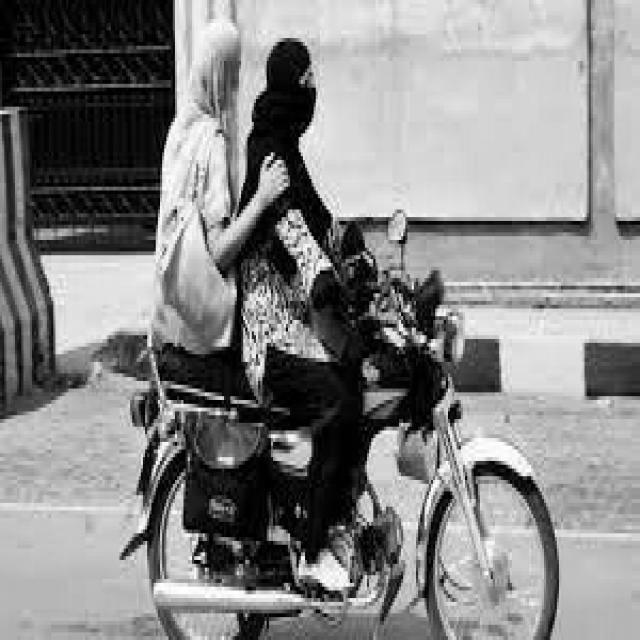Motorbike: (121, 23, 560, 640)
